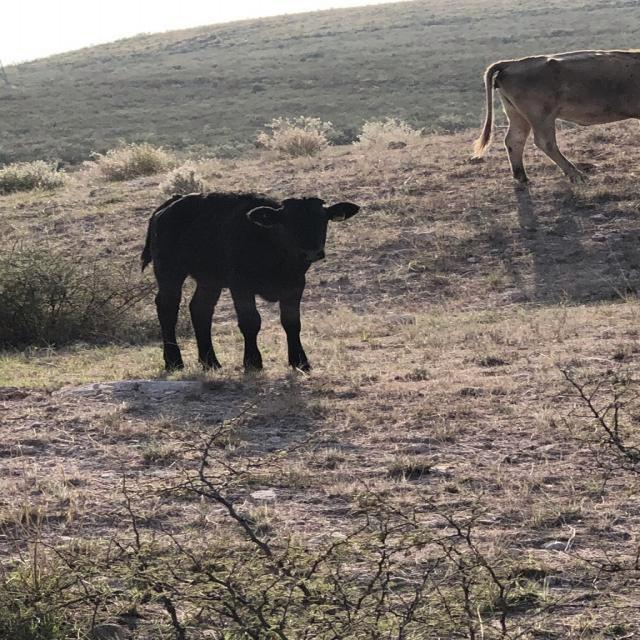cow: (141, 192, 359, 371), (475, 50, 640, 182)
